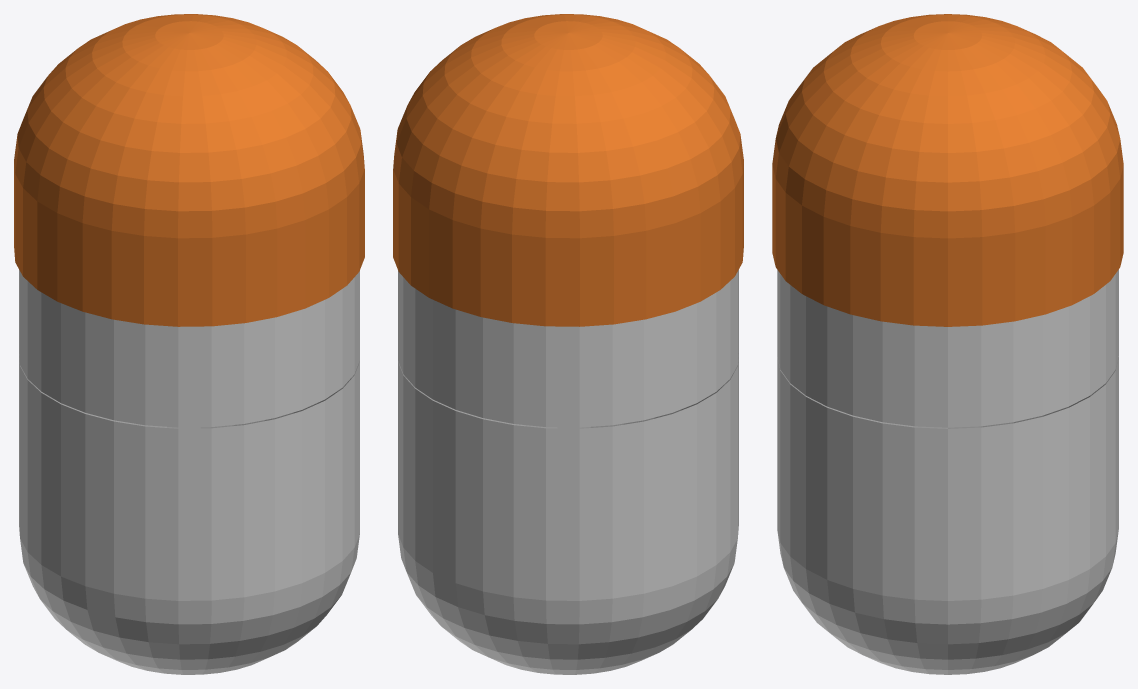
Rendered from Container_Single.fbx.
The picture shows the model from 3 angles, left to right: view 1: azimuth 30°, elevation 25°; view 2: azimuth 150°, elevation 25°; view 3: azimuth 270°, elevation 25°; orthographic projection.
Visible parts, largest first — view 1: Sphere.001; view 2: Sphere.001; view 3: Sphere.001.
Boxes of the visible parts, x1,y1,x2,y2 form: Sphere.001: [14, 14, 364, 674]; Sphere.001: [393, 14, 743, 674]; Sphere.001: [772, 14, 1123, 674].
Size of the model in its own units: 171 by 335 by 171.
